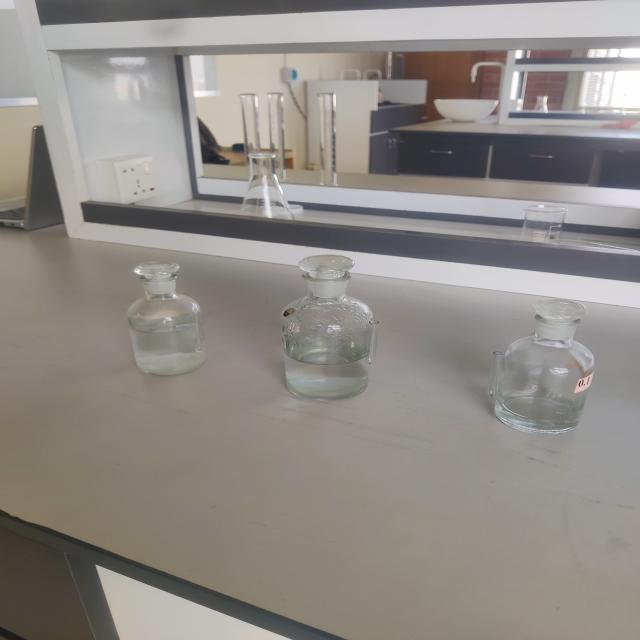Reagent_Bottle: (461, 272, 627, 459), (256, 229, 403, 422), (107, 245, 224, 390)
